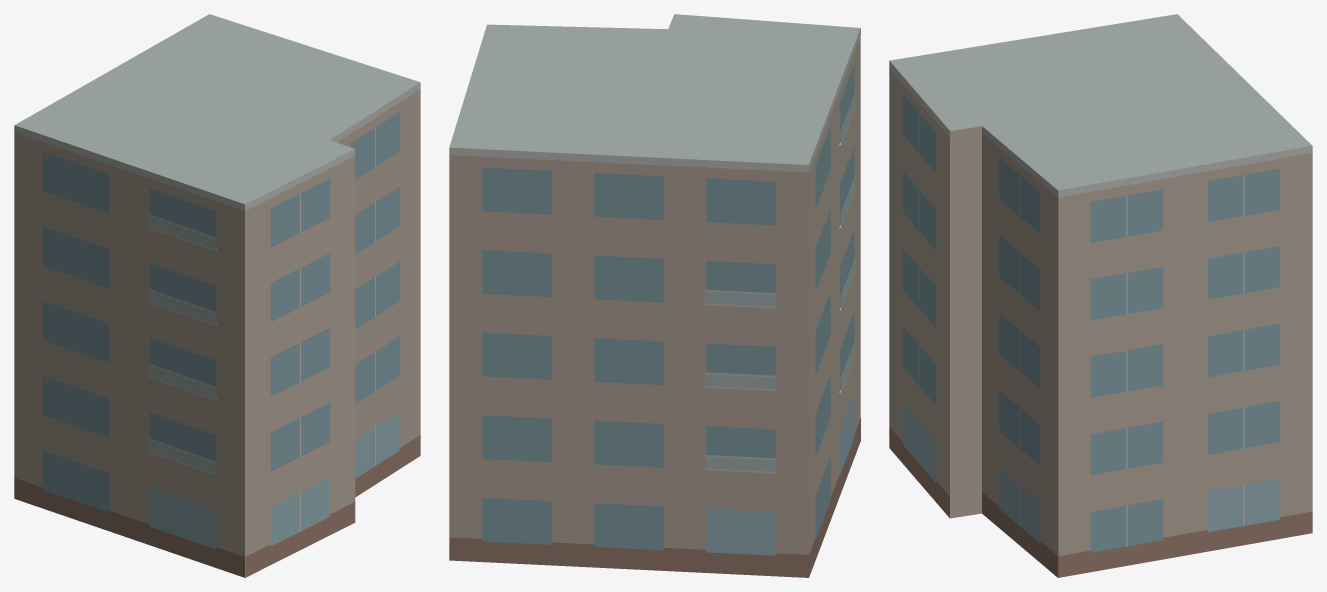
Rendered from survey-upis-32983607.glb.
3 views of the same model, side by side, from view 1: azimuth 30°, elevation 25°; view 2: azimuth 150°, elevation 25°; view 3: azimuth 270°, elevation 25° (orthographic). The views are drawn at different scales.
Visible parts, largest first — view 1: survey-upis-32983607.tmp; view 2: survey-upis-32983607.tmp; view 3: survey-upis-32983607.tmp.
Part boxes in pixels (box(x1,y1,x2,y2)): survey-upis-32983607.tmp: box(14, 14, 420, 577); survey-upis-32983607.tmp: box(449, 14, 860, 577); survey-upis-32983607.tmp: box(889, 14, 1312, 577).
Bounding box in the file's own units: 13.1 × 13.4 × 13.28.
